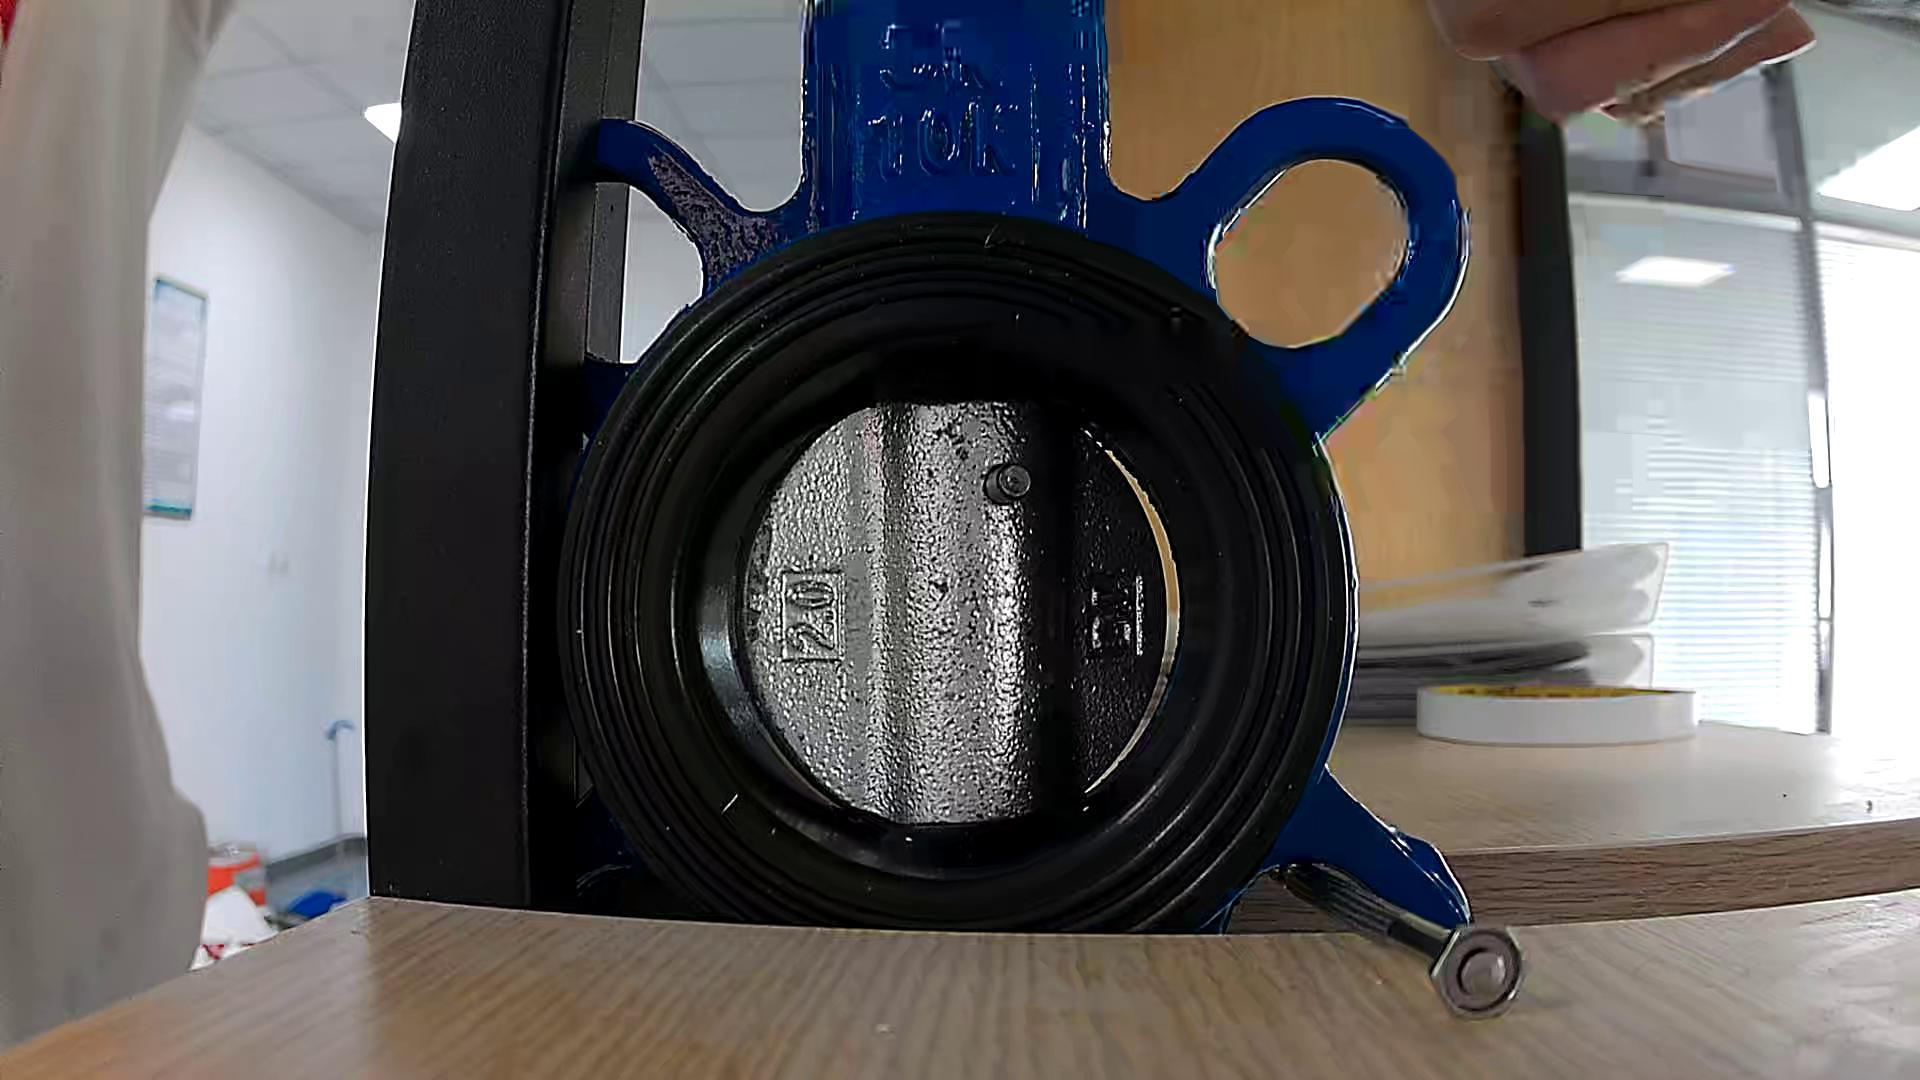valve: (738, 401, 1166, 825)
